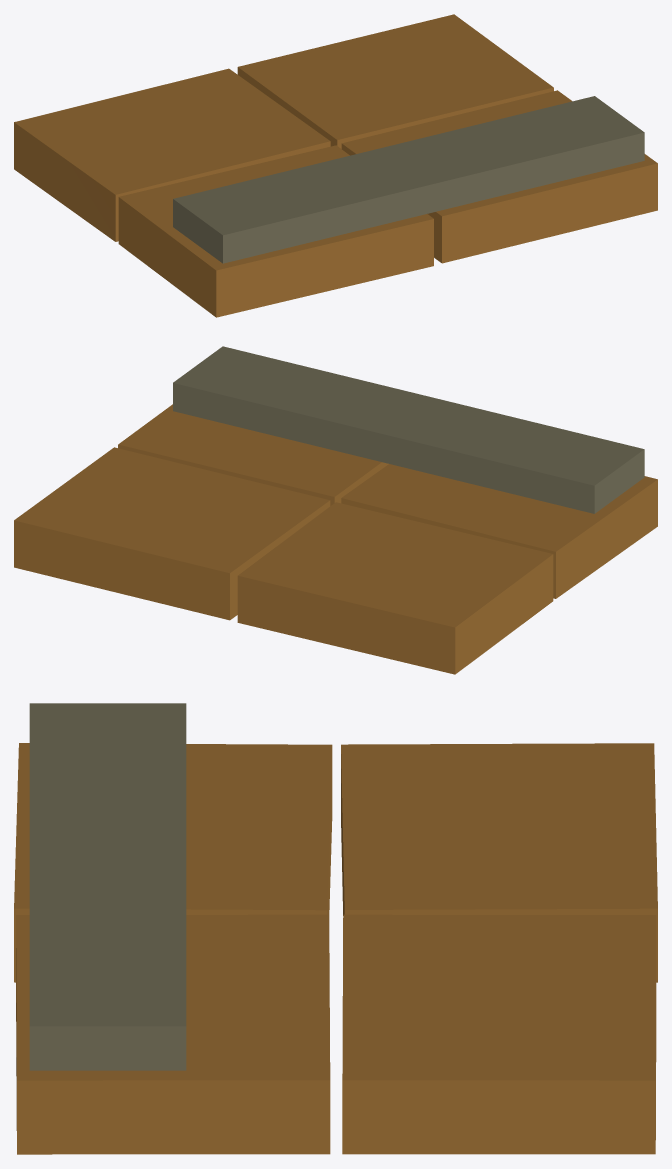
File: SM_BanquetaCorta_v0_LOD1.fbx
3 renders of one model, top to bottom at view 1: azimuth 30°, elevation 25°; view 2: azimuth 150°, elevation 25°; view 3: azimuth 270°, elevation 25°, orthographic. The views are drawn at different scales.
Visible parts, largest first — view 1: SM_banqueta_tiro_v10_LOD1; view 2: SM_banqueta_tiro_v10_LOD1; view 3: SM_banqueta_tiro_v10_LOD1.
Part boxes in pixels (x1=…): SM_banqueta_tiro_v10_LOD1: x1=14, y1=14, x2=657, y2=317; SM_banqueta_tiro_v10_LOD1: x1=14, y1=346, x2=657, y2=674; SM_banqueta_tiro_v10_LOD1: x1=14, y1=703, x2=657, y2=1154.
Size of the model in its own units: 2.45 by 0.41 by 1.97.
